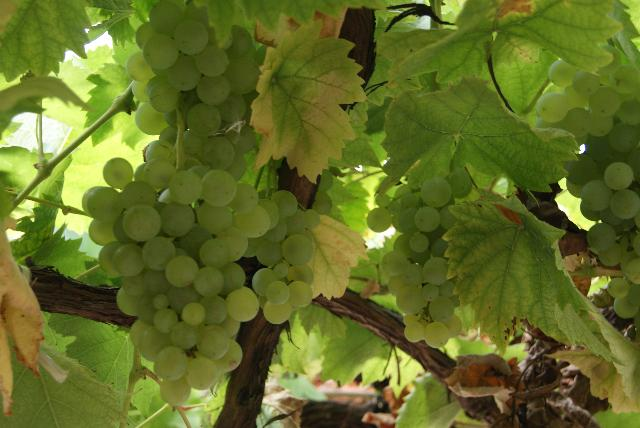grapes: (536, 60, 640, 284), (125, 0, 260, 171), (366, 170, 471, 348), (252, 190, 331, 324)
